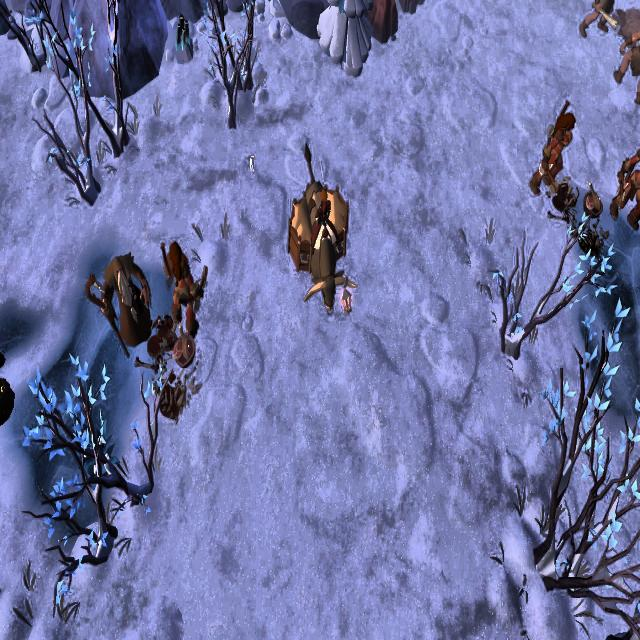enemy_factionKeeper: (86, 250, 151, 351), (161, 238, 209, 333), (533, 102, 576, 204), (606, 146, 640, 233), (612, 31, 640, 108), (580, 0, 615, 41)
ore_t4: (172, 10, 190, 56)
rock_t5: (363, 0, 398, 46)
